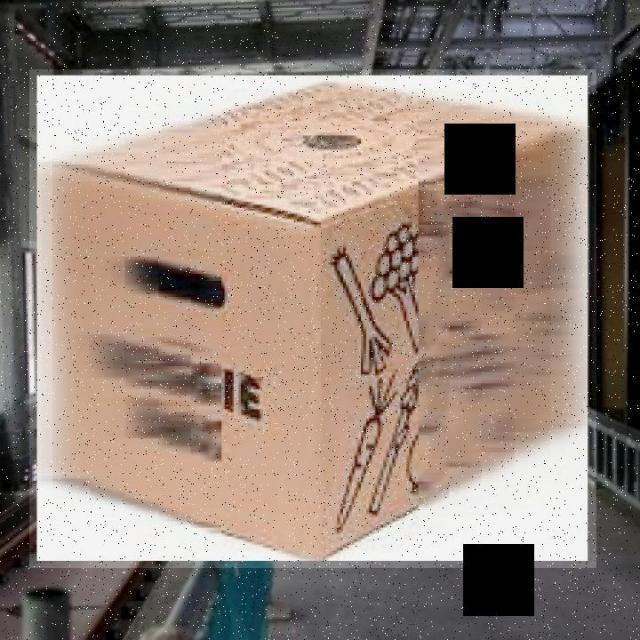box: (29, 69, 596, 568)
